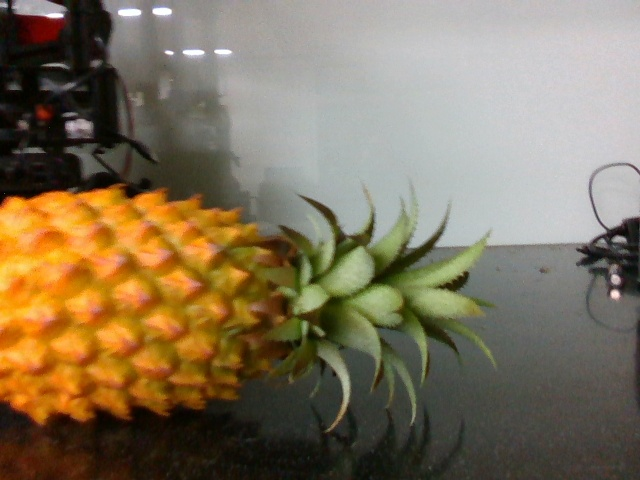pineapple: (1, 174, 502, 434)
